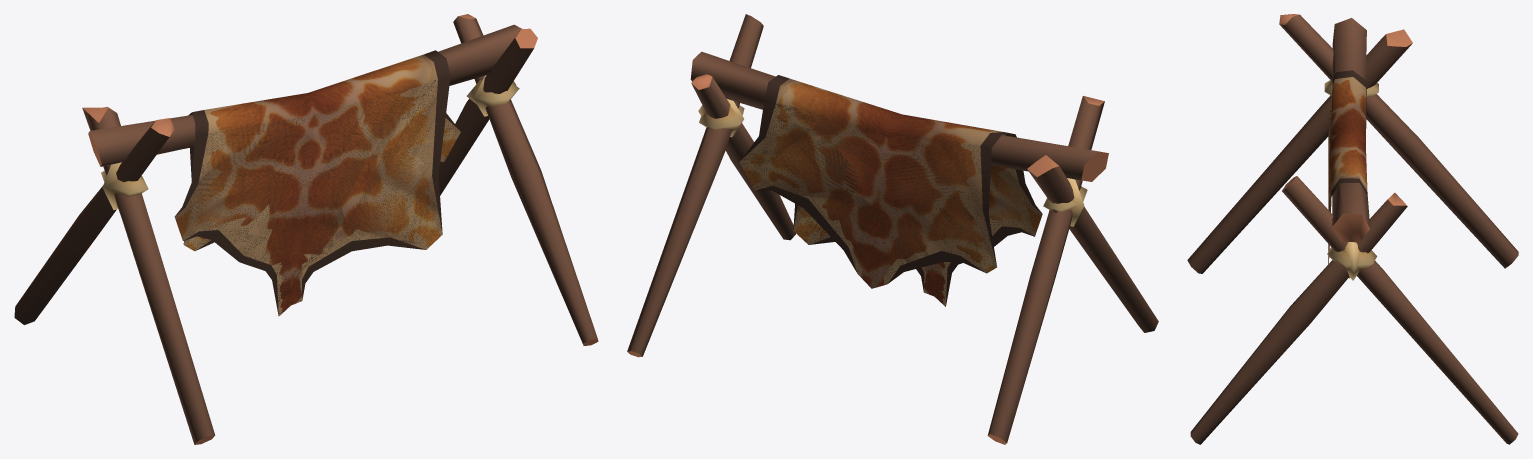
Rendered from Leather_Piece_2A.fbx.
3 views of the same model, side by side, from view 1: azimuth 30°, elevation 25°; view 2: azimuth 150°, elevation 25°; view 3: azimuth 270°, elevation 25° (orthographic). The views are drawn at different scales.
Visible parts, largest first — view 1: Leather_Piece_2A; view 2: Leather_Piece_2A; view 3: Leather_Piece_2A.
Part boxes in pixels (x1,y1,x2,y2): Leather_Piece_2A: (14, 14, 598, 444); Leather_Piece_2A: (627, 14, 1158, 444); Leather_Piece_2A: (1187, 14, 1518, 444).
Bounding box in the file's own units: 212 × 134 × 152.
